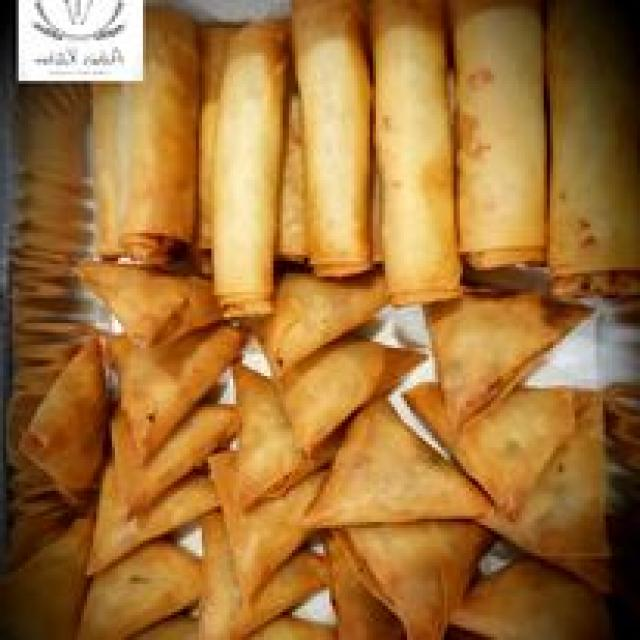Samosa: (19, 264, 637, 640)
Spring Rolls: (88, 2, 638, 279)
